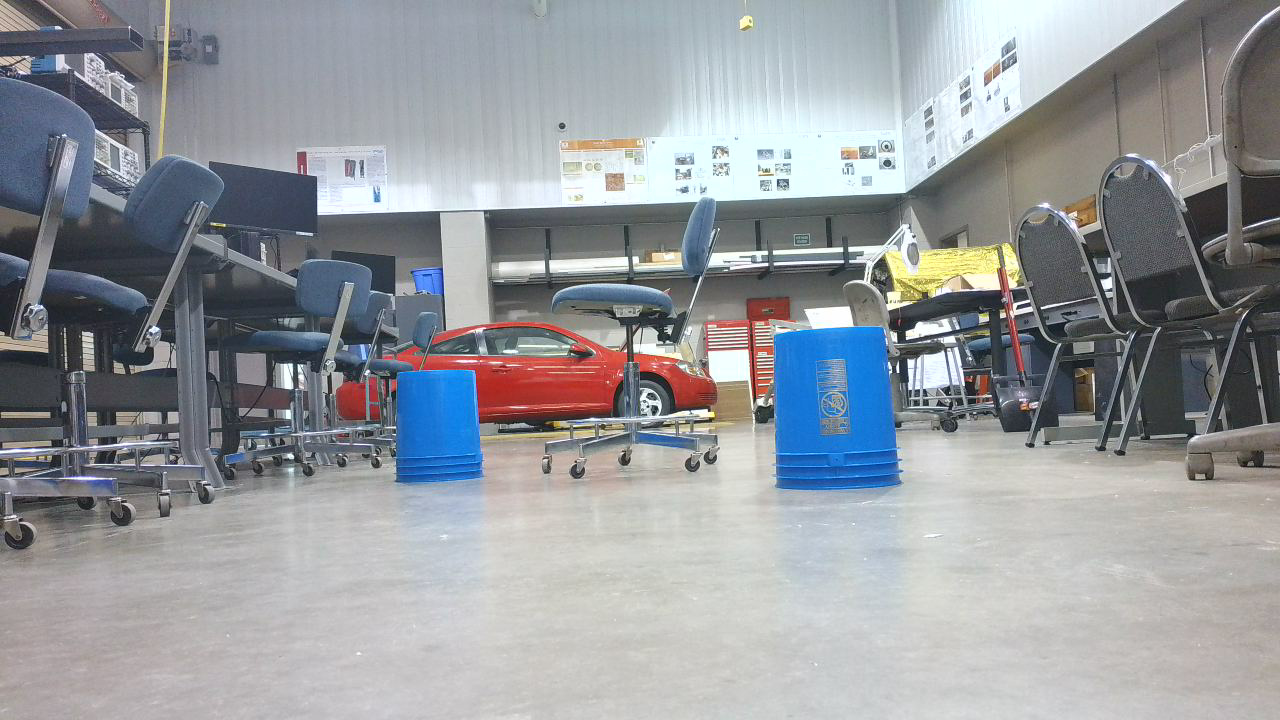blue_bucket: (778, 330, 910, 496), (399, 374, 491, 491)
